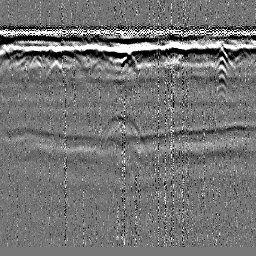cavity: (118, 51, 139, 72)
